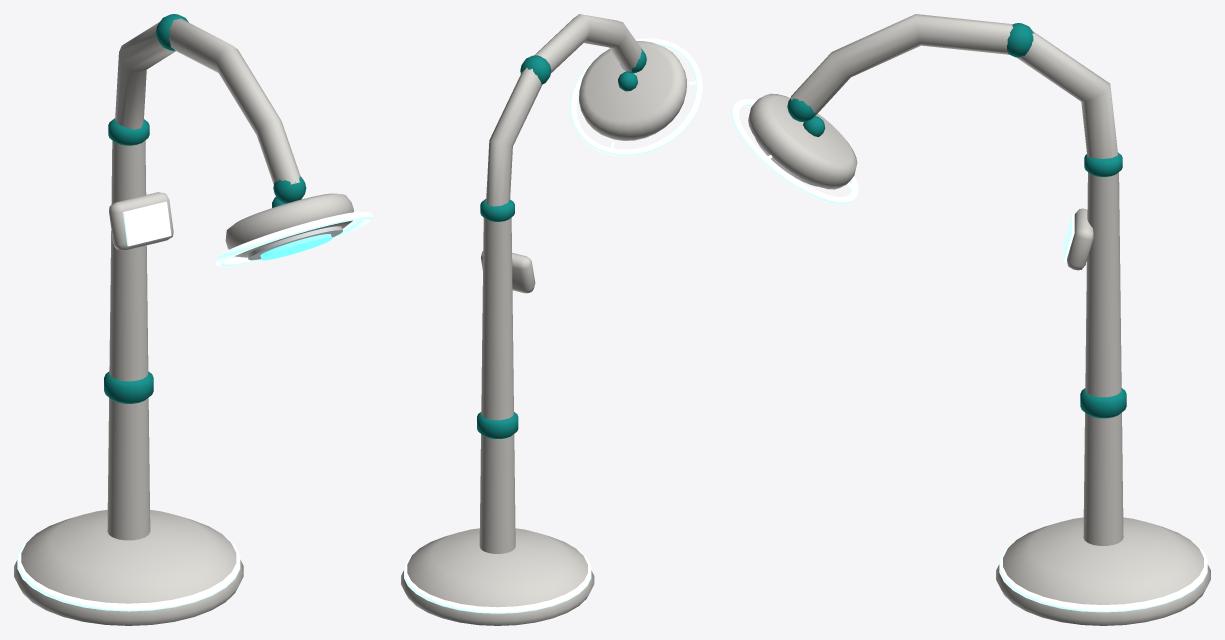
File: laser_whitening.glb
3 renders of one model, left to right at view 1: azimuth 30°, elevation 25°; view 2: azimuth 150°, elevation 25°; view 3: azimuth 270°, elevation 25°, orthographic. The views are drawn at different scales.
Visible parts, largest first — view 1: LaserWhitening; view 2: LaserWhitening; view 3: LaserWhitening.
Part boxes in pixels (box(x1,y1,x2,y2)): LaserWhitening: box(14, 14, 372, 625); LaserWhitening: box(401, 14, 702, 625); LaserWhitening: box(731, 14, 1210, 625).
Bounding box in the file's own units: 0.56 × 1.62 × 1.24.
